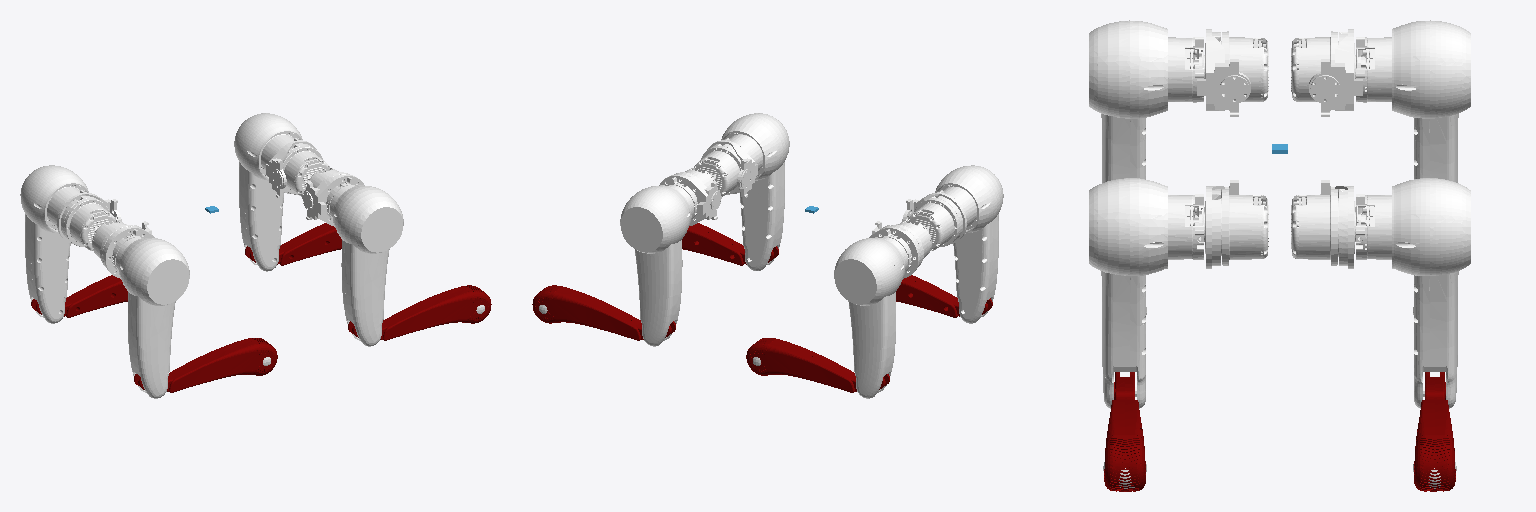
robot.urdf — robot:
<?xml version="1.0" ?>
<!-- =================================================================================== -->
<!-- |    This document was autogenerated by xacro from robot.xacro                    | -->
<!-- |    EDITING THIS FILE BY HAND IS NOT RECOMMENDED                                 | -->
<!-- =================================================================================== -->
<robot name="robot">
  <material name="black">
    <color rgba="0.0 0.0 0.0 1.0"/>
  </material>
  <material name="blue">
    <color rgba="0.0 0.0 0.8 1.0"/>
  </material>
  <material name="green">
    <color rgba="0.0 0.8 0.0 1.0"/>
  </material>
  <material name="gold">
    <color rgba="0.94901960784 0.75294117647 0.33725490196 0.0"/> 
  </material>
  <material name="grey">
    <color rgba="0.2 0.2 0.2 1.0"/>
  </material>
  <material name="silver">
    <color rgba="0.9137254901960784 0.9137254901960784 0.8470588235294118 1.0"/>
  </material>
  <material name="orange">
    <color rgba="1.0 0.4235294117647059 0.0392156862745098 1.0"/>
  </material>
  <material name="brown">
    <color rgba="0.8705882352941177 0.8117647058823529 0.7647058823529411 1.0"/>
  </material>
  <material name="red">
  <!-- aa0505 -->
    <!--color rgba="0.66666666667 0.01960784314 0.01960784314 1.0"/-->
    <color rgba="0.54901960784 0.04705882353 0.0431372549  1.0"/>
  </material>
  <material name="white">
    <color rgba="1.0 1.0 1.0 1.0"/>
  </material>
  
  <link name="base">
    <visual>
      <origin rpy="0 0 0" xyz="0 0 0"/>
      <geometry>
        <mesh filename="../meshes_ysc2go/trunk.STL" scale="1 1 1"/>
      </geometry>
      <material name="red"/>
    </visual>
    <collision>
      <origin rpy="0 0 0" xyz="0 0 0"/>
      <geometry>
        <box size="0.226 0.184 0.129"/>
      </geometry>
    </collision>
    <inertial>
      <origin rpy="0 0 0" xyz="0.03405506 -0.00027342 0.02745369"/>
      <!-- <origin rpy="0 0 0" xyz="0.055506 -0.00027342 0.02745369"/> -->
      <!-- <mesh filename="package://legged_ysc2go_description/meshes/$(arg robot_type)/trunk.STL" scale="1 1 1"/> -->
      <mass value="7.39662602"/>
      <inertia ixx="0.05468948" ixy="-9.577e-05" ixz="-0.02595783" iyy="0.14263652" iyz="-1.269e-05" izz="0.11906457"/>
    </inertial>
  </link>
  <!-- Imu is fixed to the base link -->
  <joint name="unitree_imu_joint" type="fixed">
    <origin rpy="0. 0. 0." xyz="0. 0. 0."/>
    <parent link="base"/>
    <child link="unitree_imu"/>
  </joint>
  <!-- Imu link -->
  <link name="unitree_imu">
    <inertial>
      <mass value="0.01"/>
      <origin rpy="0 0 0" xyz="0 0 0"/>
      <inertia ixx="0.000001" ixy="0" ixz="0" iyy="0.000001" iyz="0" izz="0.000001"/>
    </inertial>
    <visual>
      <origin rpy="0 0 0" xyz="0 0 0"/>
      <geometry>
        <box size="0.015 0.015 0.004"/>
      </geometry>
    </visual>
    <material name="orange">
      <color rgba="255 108 10 255"/>
    </material>
  </link>
  
  <joint name="FR_hip_joint" type="revolute">
    <origin rpy="0 0 0" xyz="0.185 -0.045 0.0"/>
    <parent link="base"/>
    <child link="FR_hip"/>
    <axis xyz="1 0 0"/>
    <dynamics damping="0.0" friction="0.0"/>
    <!-- <limit effort="19.94" lower="-0.45" upper="0.45" velocity="30.9971"/> -->
      <limit effort="19.94" lower="-0.35" upper="0.35" velocity="30.9971"/>
  </joint>
  <link name="FR_hip">
    <visual>
      <origin rpy="0 0 0" xyz="0 0 0"/>
      <!-- <origin rpy="${pi} 0 0" xyz="0 0 0"/> -->
      <geometry>
        <mesh filename="../meshes_ysc2go/FR_hip_link.STL" scale="1 1 1"/>
      </geometry>
      <material name="white"/>
    </visual>
    <!-- <collision>
      <origin rpy="1.5707963267948966 0 0" xyz="0 0 0"/>
      <geometry>
        <cylinder length="0.032" radius="0.035"/>
      </geometry>
    </collision> -->
    <inertial>
      <origin rpy="0 0 0" xyz="-0.0028174 -0.00258054 5.131e-05"/>
      <mass value="0.55682085"/>
      <inertia ixx="0.000301" ixy="-1.589e-05" ixz="-2.2e-07" iyy="0.0003762" iyz="-9.8e-07" izz="0.00035095"/>
    </inertial>
  </link>
  <joint name="FR_thigh_joint" type="revolute">
    <!-- c -->
    <!-- <origin rpy="0 0 0" xyz="0 ${thigh_offset*mirror} 0"/> -->
    <origin rpy="0 0.0 0" xyz="0 -0.10879 0"/>
    <parent link="FR_hip"/>
    <child link="FR_thigh"/>
    <!-- <axis xyz="0 -1 0"/> -->
    <axis xyz="0 1 0"/>
    <dynamics damping="0.0" friction="0.0"/>
    <limit effort="19.94" lower="-1" upper="2.64" velocity="30.9971"/>
  </joint>
  <link name="FR_thigh">
    <visual>
      <origin rpy="0 0 0" xyz="0 0 0"/>
      <geometry>
        <mesh filename="../meshes_ysc2go/FR_thigh_link.STL" scale="1 1 1"/>
      </geometry>
      <material name="white"/>
    </visual>
    <collision>
      <origin rpy="0 1.5707963267948966 0" xyz="0 0 -0.09"/>
      <geometry>
        <box size="0.18 0.03 0.03"/>
      </geometry>
    </collision>
    <!-- <collision>
      <origin rpy="1.5707963267948966 0 0" xyz="0 0 0"/>
      <geometry>
        <cylinder length="0.035" radius="0.035"/>
      </geometry>
    </collision> -->
    <inertial>
      <origin rpy="0 0 0" xyz="-0.00325856 0.02292409 -0.02434837"/>
      <mass value="1.05578211"/>
      <inertia ixx="0.00385729" ixy="-8.335e-05" ixz="-0.00024918" iyy="0.00360924" iyz="-0.00057929" izz="0.00124018"/>
    </inertial>
  </link>
  <joint name="FR_calf_joint" type="revolute">
    <!-- cc -->
    <origin rpy="0 0 0" xyz="0 0 -0.18"/>
    <parent link="FR_thigh"/>
    <child link="FR_calf"/>
    <axis xyz="0 1 0"/>
    <dynamics damping="0.0" friction="0.0"/>
    <limit effort="19.94" lower="-2.64" upper="-0.5" velocity="30.9971"/>
  </joint>
  <link name="FR_calf">
    <visual>
      <origin rpy="0 0 0" xyz="0 0 0"/>
      <geometry>
        <mesh filename="../meshes_ysc2go/FR_calf_link.STL" scale="1 1 1"/>
      </geometry>
      <material name="red"/>
    </visual>
    <collision>
      <origin rpy="0 1.5707963267948966 0" xyz="0 0 -0.09"/>
      <geometry>
        <box size="0.18 0.018 0.015"/>
      </geometry>
    </collision>
    <inertial>
      <origin rpy="0 0 0" xyz="0.00207601 0.00020335 -0.10653136"/>
      <mass value="0.2749309"/>
      <inertia ixx="0.00142334" ixy="-2.7e-07" ixz="4.8e-07" iyy="0.0014332" iyz="-1.04e-06" izz="7.192e-05"/>
    </inertial>
  </link>
  <joint name="FR_foot_fixed" type="fixed" dont_collapse="true">
    <origin rpy="0 0 0" xyz="0 0 -0.18"/>
    <parent link="FR_calf"/>
    <child link="FR_foot"/>
  </joint>
  <link name="FR_foot">
    <visual>
      <origin rpy="0 0 0" xyz="0 0 0"/>
      <geometry>
        <sphere radius="0.02169"/>
        <!-- <mesh filename="package://legged_ysc2go_description/meshes/$(arg robot_type)/FL_toe_link.STL" scale="1 1 1"/> -->
      </geometry>
      <material name="white"/>
    </visual>
    <collision>
      <origin rpy="0 0 0" xyz="0 0 0"/>
      <geometry>
        <sphere radius="0.02169"/>
      </geometry>
    </collision>
    <inertial>
      <mass value="0.05"/>
      <inertia ixx="9.409122000000001e-06" ixy="0.0" ixz="0.0" iyy="9.409122000000001e-06" iyz="0.0" izz="9.409122000000001e-06"/>
    </inertial>
   
  </link>
  
  <joint name="FL_hip_joint" type="revolute">
    <origin rpy="0 0 0" xyz="0.185 0.045 0.0"/>
    <parent link="base"/>
    <child link="FL_hip"/>
    <axis xyz="1 0 0"/>
    <dynamics damping="0.0" friction="0.0"/>
    <limit effort="19.94" lower="-0.35" upper="0.35" velocity="30.9971"/>
  </joint>
  <link name="FL_hip">
    <visual>
      <origin rpy="0 0 0" xyz="0 0 0"/>
      <geometry>
        <mesh filename="../meshes_ysc2go/FL_hip_link.STL" scale="1 1 1"/>
      </geometry>
      <material name="white"/>
    </visual>
    <!-- <collision>
      <origin rpy="1.5707963267948966 0 0" xyz="0 0 0"/>
      <geometry>
        <cylinder length="0.032" radius="0.035"/>
      </geometry>
    </collision> -->
    <inertial>
      <origin rpy="0 0 0" xyz="-0.0028174 0.00258054 5.131e-05"/>
      <mass value="0.55682085"/>
      <inertia ixx="0.000301" ixy="1.589e-05" ixz="-2.2e-07" iyy="0.0003762" iyz="9.8e-07" izz="0.00035095"/>
    </inertial>
  </link>
  <joint name="FL_thigh_joint" type="revolute">
    <!-- c -->
    <!-- <origin rpy="0 0 0" xyz="0 ${thigh_offset*mirror} 0"/> -->
    <origin rpy="0 0.0 0" xyz="0 0.10879 0"/>
    <parent link="FL_hip"/>
    <child link="FL_thigh"/>
    <!-- <axis xyz="0 -1 0"/> -->
    <axis xyz="0 1 0"/>
    <dynamics damping="0.0" friction="0.0"/>
    <limit effort="19.94" lower="-1" upper="2.64" velocity="30.9971"/>
  </joint>
  <link name="FL_thigh">
    <visual>
      <origin rpy="0 0 0" xyz="0 0 0"/>
      <geometry>
        <mesh filename="../meshes_ysc2go/FL_thigh_link.STL" scale="1 1 1"/>
      </geometry>
      <material name="white"/>
    </visual>
    <collision>
      <origin rpy="0 1.5707963267948966 0" xyz="0 0 -0.09"/>
      <geometry>
        <box size="0.18 0.03 0.03"/>
      </geometry>
    </collision>
    <!-- <collision>
      <origin rpy="1.5707963267948966 0 0" xyz="0 0 0"/>
      <geometry>
        <cylinder length="0.035" radius="0.035"/>
      </geometry>
    </collision> -->
    <inertial>
      <origin rpy="0 0 0" xyz="-0.00325856 -0.02292409 -0.02434837"/>
      <mass value="1.05578211"/>
      <inertia ixx="0.00385729" ixy="8.335e-05" ixz="-0.00024918" iyy="0.00360924" iyz="0.00057929" izz="0.00124018"/>
    </inertial>
  </link>
  <joint name="FL_calf_joint" type="revolute">
    <!-- cc -->
    <origin rpy="0 0 0" xyz="0 0 -0.18"/>
    <parent link="FL_thigh"/>
    <child link="FL_calf"/>
    <axis xyz="0 1 0"/>
    <dynamics damping="0.0" friction="0.0"/>
    <limit effort="19.94" lower="-2.64" upper="-0.5" velocity="30.9971"/>
  </joint>
  <link name="FL_calf">
    <visual>
      <origin rpy="0 0 0" xyz="0 0 0"/>
      <geometry>
        <mesh filename="../meshes_ysc2go/FL_calf_link.STL" scale="1 1 1"/>
      </geometry>
      <material name="red"/>
    </visual>
    <collision>
      <origin rpy="0 1.5707963267948966 0" xyz="0 0 -0.09"/>
      <geometry>
        <box size="0.18 0.018 0.015"/>
      </geometry>
    </collision>
    <inertial>
      <origin rpy="0 0 0" xyz="0.00207601 0.00020335 -0.10653136"/>
      <mass value="0.2749309"/>
      <inertia ixx="0.00142334" ixy="-2.7e-07" ixz="4.8e-07" iyy="0.0014332" iyz="-1.04e-06" izz="7.192e-05"/>
    </inertial>
  </link>
  <joint name="FL_foot_fixed" type="fixed" dont_collapse="true">
    <origin rpy="0 0 0" xyz="0 0 -0.18"/>
    <parent link="FL_calf"/>
    <child link="FL_foot"/>
  </joint>
  <link name="FL_foot">
    <visual>
      <origin rpy="0 0 0" xyz="0 0 0"/>
      <geometry>
        <sphere radius="0.02169"/>
        <!-- <mesh filename="package://legged_ysc2go_description/meshes/$(arg robot_type)/FL_toe_link.STL" scale="1 1 1"/> -->
      </geometry>
      <material name="white"/>
    </visual>
    <collision>
      <origin rpy="0 0 0" xyz="0 0 0"/>
      <geometry>
        <sphere radius="0.02169"/>
      </geometry>
    </collision>
    <inertial>
      <mass value="0.05"/>
      <inertia ixx="9.409122000000001e-06" ixy="0.0" ixz="0.0" iyy="9.409122000000001e-06" iyz="0.0" izz="9.409122000000001e-06"/>
    </inertial>
    
  </link>
 
  <joint name="RR_hip_joint" type="revolute">
    <origin rpy="0 0 0" xyz="-0.185 -0.045 0.0"/>
    <parent link="base"/>
    <child link="RR_hip"/>
    <axis xyz="1 0 0"/>
    <dynamics damping="0.0" friction="0.0"/>
    <limit effort="19.94" lower="-0.35" upper="0.35" velocity="30.9971"/>
  </joint>
  <link name="RR_hip">
    <visual>
      <origin rpy="0 0 3.141592653589793" xyz="0 0 0"/>
      <geometry>
        <mesh filename="../meshes_ysc2go/FL_hip_link.STL" scale="1 1 1"/>
      </geometry>
      <material name="white"/>
    </visual>
    <!-- <collision>
      <origin rpy="1.5707963267948966 0 0" xyz="0 0 0"/>
      <geometry>
        <cylinder length="0.032" radius="0.035"/>
      </geometry>
    </collision> -->
    <inertial>
      <origin rpy="0 0 0" xyz="0.0028174 -0.00258054 5.131e-05"/>
      <mass value="0.55682085"/>
      <inertia ixx="0.000301" ixy="1.589e-05" ixz="2.2e-07" iyy="0.0003762" iyz="-9.8e-07" izz="0.00035095"/>
    </inertial>
  </link>
  <joint name="RR_thigh_joint" type="revolute">
    <!-- c -->
    <!-- <origin rpy="0 0 0" xyz="0 ${thigh_offset*mirror} 0"/> -->
    <origin rpy="0 0.0 0" xyz="0 -0.10879 0"/>
    <parent link="RR_hip"/>
    <child link="RR_thigh"/>
    <!-- <axis xyz="0 -1 0"/> -->
    <axis xyz="0 1 0"/>
    <dynamics damping="0.0" friction="0.0"/>
    <limit effort="19.94" lower="-1" upper="2.64" velocity="30.9971"/>
  </joint>
  <link name="RR_thigh">
    <visual>
      <origin rpy="0 0 0" xyz="0 0 0"/>
      <geometry>
        <mesh filename="../meshes_ysc2go/FR_thigh_link.STL" scale="1 1 1"/>
      </geometry>
      <material name="white"/>
    </visual>
    <collision>
      <origin rpy="0 1.5707963267948966 0" xyz="0 0 -0.09"/>
      <geometry>
        <box size="0.18 0.03 0.03"/>
      </geometry>
    </collision>
    <!-- <collision>
      <origin rpy="1.5707963267948966 0 0" xyz="0 0 0"/>
      <geometry>
        <cylinder length="0.035" radius="0.035"/>
      </geometry>
    </collision> -->
    <inertial>
      <origin rpy="0 0 0" xyz="-0.00325856 0.02292409 -0.02434837"/>
      <mass value="1.05578211"/>
      <inertia ixx="0.00385729" ixy="-8.335e-05" ixz="-0.00024918" iyy="0.00360924" iyz="-0.00057929" izz="0.00124018"/>
    </inertial>
  </link>
  <joint name="RR_calf_joint" type="revolute">
    <!-- cc -->
    <origin rpy="0 0 0" xyz="0 0 -0.18"/>
    <parent link="RR_thigh"/>
    <child link="RR_calf"/>
    <axis xyz="0 1 0"/>
    <dynamics damping="0.0" friction="0.0"/>
    <limit effort="19.94" lower="-2.64" upper="-0.5" velocity="30.9971"/>
  </joint>
  <link name="RR_calf">
    <visual>
      <origin rpy="0 0 0" xyz="0 0 0"/>
      <geometry>
        <mesh filename="../meshes_ysc2go/FR_calf_link.STL" scale="1 1 1"/>
      </geometry>
      <material name="red"/>
    </visual>
    <collision>
      <origin rpy="0 1.5707963267948966 0" xyz="0 0 -0.09"/>
      <geometry>
        <box size="0.18 0.018 0.015"/>
      </geometry>
    </collision>
    <inertial>
      <origin rpy="0 0 0" xyz="0.00207601 0.00020335 -0.10653136"/>
      <mass value="0.2749309"/>
      <inertia ixx="0.00142334" ixy="-2.7e-07" ixz="4.8e-07" iyy="0.0014332" iyz="-1.04e-06" izz="7.192e-05"/>
    </inertial>
  </link>
  <joint name="RR_foot_fixed" type="fixed" dont_collapse="true">
    <origin rpy="0 0 0" xyz="0 0 -0.18"/>
    <parent link="RR_calf"/>
    <child link="RR_foot"/>
  </joint>
  <link name="RR_foot">
    <visual>
      <origin rpy="0 0 0" xyz="0 0 0"/>
      <geometry>
        <sphere radius="0.02169"/>
        <!-- <mesh filename="package://legged_ysc2go_description/meshes/$(arg robot_type)/FL_toe_link.STL" scale="1 1 1"/> -->
      </geometry>
      <material name="white"/>
    </visual>
    <collision>
      <origin rpy="0 0 0" xyz="0 0 0"/>
      <geometry>
        <sphere radius="0.02169"/>
      </geometry>
    </collision>
    <inertial>
      <mass value="0.05"/>
      <inertia ixx="9.409122000000001e-06" ixy="0.0" ixz="0.0" iyy="9.409122000000001e-06" iyz="0.0" izz="9.409122000000001e-06"/>
    </inertial>
    <!-- <inertial>
                <mass value="${0.0}"/>
                <inertia
                        ixx="0.0" ixy="0.0" ixz="0.0"
                        iyy="0.0" iyz="0.0"
                        izz="0.0"/>
            </inertial> -->
    <!-- <inertial>
                <mass value="${foot_mass}"/>
                <origin rpy="0 0 0" xyz="${foot_com_x} ${foot_com_y} ${foot_com_z}"/>
                <inertia
                        ixx="${foot_ixx}" ixy="${foot_ixy}" ixz="${foot_ixz}"
                        iyy="${foot_iyy}" iyz="${foot_iyz}"
                        izz="${foot_izz}"/>
            </inertial> -->
  </link>
  
  <joint name="RL_hip_joint" type="revolute">
    <origin rpy="0 0 0" xyz="-0.185 0.045 0.0"/>
    <parent link="base"/>
    <child link="RL_hip"/>
    <axis xyz="1 0 0"/>
    <dynamics damping="0.0" friction="0.0"/>
    <limit effort="19.94" lower="-0.35" upper="0.35" velocity="30.9971"/>
  </joint>
  <link name="RL_hip">
    <visual>
      <origin rpy="0 0 3.141592653589793" xyz="0 0 0"/>
      <geometry>
        <mesh filename="../meshes_ysc2go/FR_hip_link.STL" scale="1 1 1"/>
      </geometry>
      <material name="white"/>
    </visual>
    <!-- <collision>
      <origin rpy="1.5707963267948966 0 0" xyz="0 0 0"/>
      <geometry>
        <cylinder length="0.032" radius="0.035"/>
      </geometry>
    </collision> -->
    <inertial>
      <origin rpy="0 0 0" xyz="0.0028174 0.00258054 5.131e-05"/>
      <mass value="0.55682085"/>
      <inertia ixx="0.000301" ixy="-1.589e-05" ixz="2.2e-07" iyy="0.0003762" iyz="9.8e-07" izz="0.00035095"/>
    </inertial>
  </link>
  <joint name="RL_thigh_joint" type="revolute">
    <!-- c -->
    <!-- <origin rpy="0 0 0" xyz="0 ${thigh_offset*mirror} 0"/> -->
    <origin rpy="0 0.0 0" xyz="0 0.10879 0"/>
    <parent link="RL_hip"/>
    <child link="RL_thigh"/>
    <!-- <axis xyz="0 -1 0"/> -->
    <axis xyz="0 1 0"/>
    <dynamics damping="0.0" friction="0.0"/>
    <limit effort="19.94" lower="-1" upper="2.64" velocity="30.9971"/>
  </joint>
  <link name="RL_thigh">
    <visual>
      <origin rpy="0 0 0" xyz="0 0 0"/>
      <geometry>
        <mesh filename="../meshes_ysc2go/FL_thigh_link.STL" scale="1 1 1"/>
      </geometry>
      <material name="white"/>
    </visual>
    <collision>
      <origin rpy="0 1.5707963267948966 0" xyz="0 0 -0.09"/>
      <geometry>
        <box size="0.18 0.03 0.03"/>
      </geometry>
    </collision>
    <!-- <collision>
      <origin rpy="1.5707963267948966 0 0" xyz="0 0 0"/>
      <geometry>
        <cylinder length="0.035" radius="0.035"/>
      </geometry>
    </collision> -->
    <inertial>
      <origin rpy="0 0 0" xyz="-0.00325856 -0.02292409 -0.02434837"/>
      <mass value="1.05578211"/>
      <inertia ixx="0.00385729" ixy="8.335e-05" ixz="-0.00024918" iyy="0.00360924" iyz="0.00057929" izz="0.00124018"/>
    </inertial>
  </link>
  <joint name="RL_calf_joint" type="revolute">
    <!-- cc -->
    <origin rpy="0 0 0" xyz="0 0 -0.18"/>
    <parent link="RL_thigh"/>
    <child link="RL_calf"/>
    <axis xyz="0 1 0"/>
    <dynamics damping="0.0" friction="0.0"/>
    <limit effort="19.94" lower="-2.64" upper="-0.5" velocity="30.9971"/>
  </joint>
  <link name="RL_calf">
    <visual>
      <origin rpy="0 0 0" xyz="0 0 0"/>
      <geometry>
        <mesh filename="../meshes_ysc2go/FL_calf_link.STL" scale="1 1 1"/>
      </geometry>
      <material name="red"/>
    </visual>
    <collision>
      <origin rpy="0 1.5707963267948966 0" xyz="0 0 -0.09"/>
      <geometry>
        <box size="0.18 0.018 0.015"/>
      </geometry>
    </collision>
    <inertial>
      <origin rpy="0 0 0" xyz="0.00207601 0.00020335 -0.10653136"/>
      <mass value="0.2749309"/>
      <inertia ixx="0.00142334" ixy="-2.7e-07" ixz="4.8e-07" iyy="0.0014332" iyz="-1.04e-06" izz="7.192e-05"/>
    </inertial>
  </link>
  <joint name="RL_foot_fixed" type="fixed" dont_collapse="true">
    <origin rpy="0 0 0" xyz="0 0 -0.18"/>
    <parent link="RL_calf"/>
    <child link="RL_foot"/>
  </joint>
  <link name="RL_foot">
    <visual>
      <origin rpy="0 0 0" xyz="0 0 0"/>
      <geometry>
        <sphere radius="0.02169"/>
        <!-- <mesh filename="package://legged_ysc2go_description/meshes/$(arg robot_type)/FL_toe_link.STL" scale="1 1 1"/> -->
      </geometry>
      <material name="white"/>
    </visual>
    <collision>
      <origin rpy="0 0 0" xyz="0 0 0"/>
      <geometry>
        <sphere radius="0.02169"/>
      </geometry>
    </collision>
    <inertial>
      <mass value="0.05"/>
      <inertia ixx="9.409122000000001e-06" ixy="0.0" ixz="0.0" iyy="9.409122000000001e-06" iyz="0.0" izz="9.409122000000001e-06"/>
    </inertial>
    <!-- <inertial>
                <mass value="${0.0}"/>
                <inertia
                        ixx="0.0" ixy="0.0" ixz="0.0"
                        iyy="0.0" iyz="0.0"
                        izz="0.0"/>
            </inertial> -->
    <!-- <inertial>
                <mass value="${foot_mass}"/>
                <origin rpy="0 0 0" xyz="${foot_com_x} ${foot_com_y} ${foot_com_z}"/>
                <inertia
                        ixx="${foot_ixx}" ixy="${foot_ixy}" ixz="${foot_ixz}"
                        iyy="${foot_iyy}" iyz="${foot_iyz}"
                        izz="${foot_izz}"/>
            </inertial> -->
  </link>
  
  <!-- Robot Footprint -->
  <!-- <joint name="footprint_joint" type="fixed">
        <parent link="base"/>
        <child link="base_footprint"/>
        <origin xyz="0.0 0.0 -0.2" rpy="0 0 0"/>
    </joint>

    <link name="base_footprint">
      <inertial>
      <origin xyz="0 0 0" rpy="${pi/2} 0 ${pi/2}"/>      
      <mass value="0.001"/>
      <inertia ixx="0.0" ixy="0.0" ixz="0.0" iyy="0.0" iyz="0.0" izz="0.0"/>
    </inertial>
    </link>

    <xacro:lidar parent="base" xyz="-0.065 0. 0.1" rpy="0. 0. 0."/> -->
</robot>

--- What the picture shows (computed from the rendered views, not written in the file) ---
Views: 3 orthographic renders of the robot side by side, from view 1: azimuth 30°, elevation 25°; view 2: azimuth 150°, elevation 25°; view 3: azimuth 270°, elevation 25°.
Model robot with 18 links and 17 joints (12 revolute, 5 fixed), rooted at base, posed joints at zero except 4 at the middle of their limits (FR_calf_joint = -1.57, FL_calf_joint = -1.57, RR_calf_joint = -1.57, RL_calf_joint = -1.57).
Links seen in each view (by area): view 1: RR_thigh, FR_thigh, RL_thigh, FL_thigh, RR_calf, FR_calf, RL_hip, FL_hip, FL_calf, RL_calf, FR_hip, RR_hip; view 2: RL_thigh, FL_thigh, RR_thigh, FR_thigh, RL_calf, FL_calf, RR_hip, FR_hip, RR_calf, FR_calf, FL_hip, RL_hip; view 3: FL_thigh, FR_thigh, RL_thigh, RR_thigh, RR_hip, RL_hip, FL_hip, FR_hip, FL_calf, FR_calf.
Boxes of the visible links, left/top/right/bottom form: RR_thigh: left=112, top=229, right=189, bottom=398; FR_thigh: left=326, top=177, right=403, bottom=346; RL_thigh: left=20, top=165, right=88, bottom=323; FL_thigh: left=234, top=113, right=302, bottom=271; RR_calf: left=134, top=338, right=277, bottom=392; FR_calf: left=348, top=285, right=491, bottom=340; RL_hip: left=57, top=192, right=121, bottom=250; FL_hip: left=266, top=140, right=329, bottom=197; FL_calf: left=245, top=223, right=341, bottom=265; RL_calf: left=31, top=275, right=127, bottom=317; FR_hip: left=302, top=168, right=364, bottom=226; RR_hip: left=92, top=220, right=154, bottom=278; RL_thigh: left=834, top=229, right=911, bottom=398; FL_thigh: left=620, top=177, right=697, bottom=346; RR_thigh: left=935, top=165, right=1003, bottom=323; FR_thigh: left=721, top=113, right=789, bottom=270; RL_calf: left=746, top=338, right=889, bottom=392; FL_calf: left=532, top=285, right=675, bottom=340; RR_hip: left=902, top=192, right=966, bottom=250; FR_hip: left=694, top=140, right=757, bottom=197; RR_calf: left=896, top=275, right=992, bottom=317; FR_calf: left=682, top=223, right=778, bottom=265; FL_hip: left=659, top=168, right=721, bottom=225; RL_hip: left=869, top=220, right=931, bottom=278; FL_thigh: left=1355, top=178, right=1470, bottom=408; FR_thigh: left=1089, top=178, right=1204, bottom=408; RL_thigh: left=1355, top=20, right=1470, bottom=182; RR_thigh: left=1089, top=20, right=1204, bottom=182; RR_hip: left=1197, top=29, right=1268, bottom=116; RL_hip: left=1291, top=29, right=1362, bottom=116; FL_hip: left=1291, top=180, right=1355, bottom=268; FR_hip: left=1204, top=180, right=1268, bottom=268; FL_calf: left=1414, top=372, right=1455, bottom=491; FR_calf: left=1104, top=372, right=1145, bottom=491.
Bounding box of the posed robot: 0.6209 × 0.3791 × 0.2537 m (x, y, z).
12 mesh visuals loaded from 7 distinct referenced files (6 binary STL); not drawn: 1 (reference not matched to a file when rendering).
